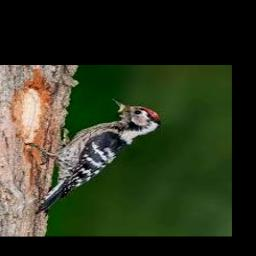Woodpecker: (26, 99, 162, 213)
